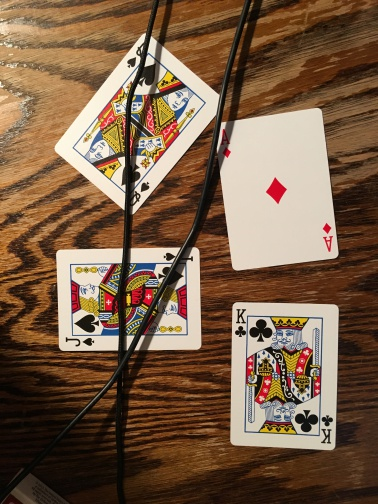ace: (216, 109, 339, 271)
jack: (55, 246, 203, 354)
king: (230, 300, 340, 450)
queen: (53, 33, 218, 214)
